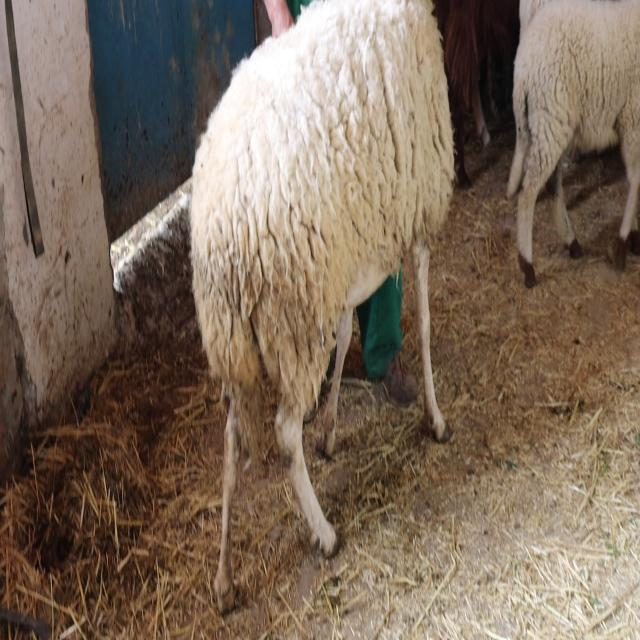Score_5: (190, 0, 454, 610)
